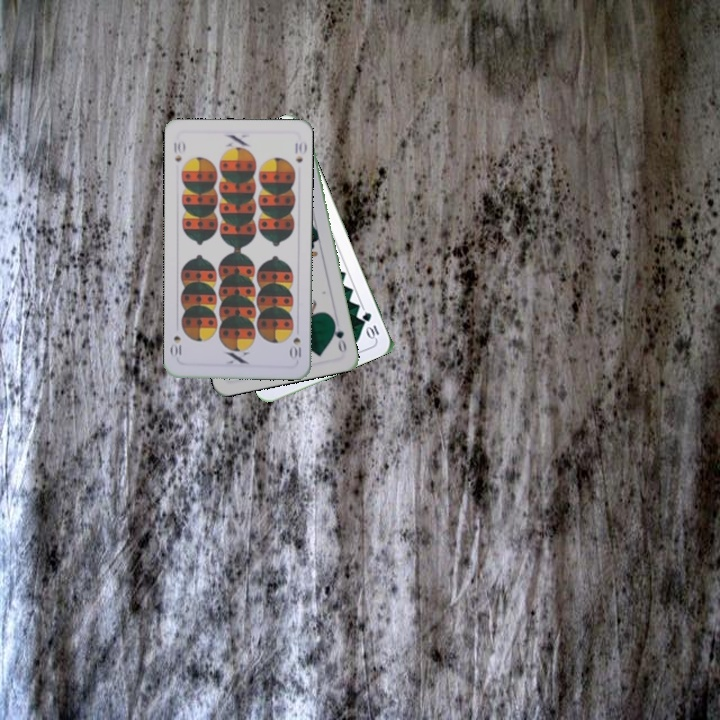G10: (358, 308, 382, 342)
GO: (329, 316, 349, 355)
S10: (170, 137, 187, 164), (288, 333, 303, 362)
